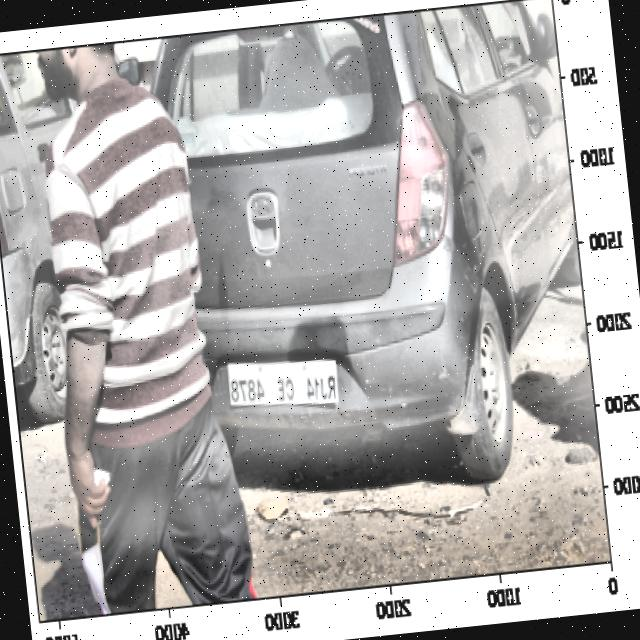license_plate: (223, 354, 342, 418)
